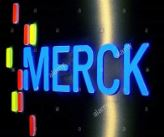Merck: (1, 2, 151, 137)
